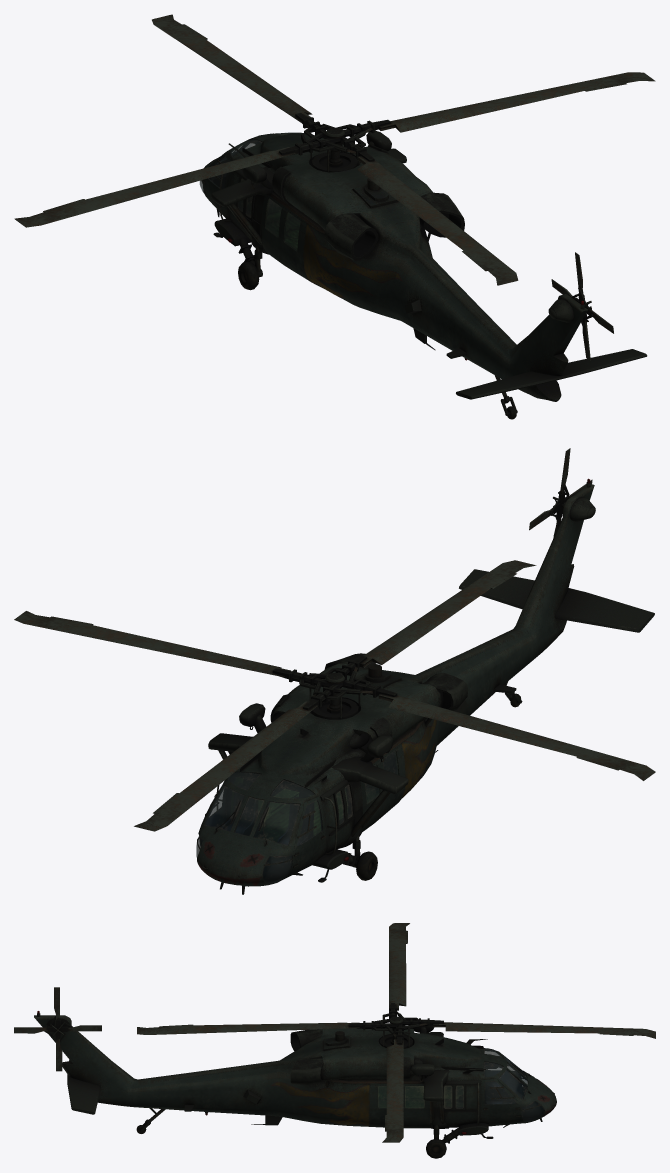
Rendered from Helicopter ShotDown.FBX.
3 renders of one model, top to bottom at view 1: azimuth 30°, elevation 25°; view 2: azimuth 150°, elevation 25°; view 3: azimuth 270°, elevation 25°, orthographic. The views are drawn at different scales.
Visible parts, largest first — view 1: HeliBody_ShotDown, TopRotor, Glass, Rear_Rotor; view 2: HeliBody_ShotDown, TopRotor, Glass, Rear_Rotor; view 3: HeliBody_ShotDown, TopRotor, Glass, Rear_Rotor.
Part boxes in pixels (x1,y1,x2,y2): HeliBody_ShotDown: (201, 130, 647, 419); TopRotor: (14, 14, 655, 285); Glass: (199, 132, 304, 250); Rear_Rotor: (551, 252, 613, 360); HeliBody_ShotDown: (197, 478, 654, 894); TopRotor: (14, 560, 655, 831); Glass: (196, 751, 398, 883); Rear_Rotor: (529, 448, 592, 537); HeliBody_ShotDown: (34, 1011, 556, 1158); TopRotor: (137, 923, 655, 1142); Glass: (378, 1048, 544, 1122); Rear_Rotor: (14, 987, 101, 1071).
Size of the model in its own units: 667 by 216 by 825.
Materials: 2 (2 with a texture image).
